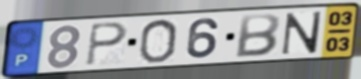6: (186, 17, 221, 61)
8: (47, 23, 83, 70)
B: (233, 12, 283, 59)
N: (279, 10, 325, 57)
O: (137, 17, 180, 65)
P: (85, 21, 130, 68)
